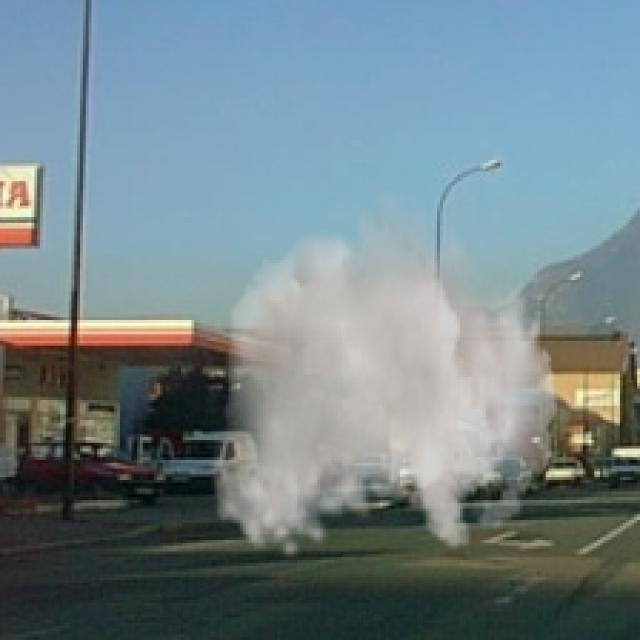smoke: (212, 183, 557, 563)
